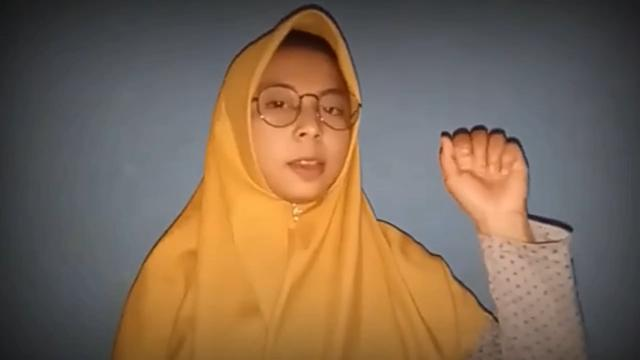B: (438, 126, 530, 222)
